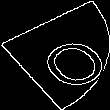O_NW: (10, 22, 100, 88)
